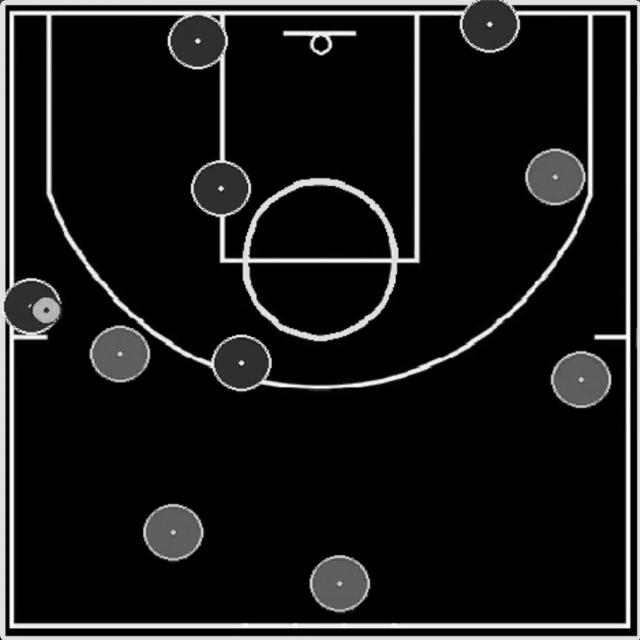Basketball: (32, 298, 60, 324)
Team_A: (190, 160, 251, 218), (168, 12, 227, 70), (212, 335, 271, 391), (3, 279, 61, 335), (460, 0, 520, 52)
Team_B: (89, 325, 150, 382), (551, 351, 611, 408), (310, 555, 370, 612), (144, 504, 204, 561), (525, 149, 585, 205)
